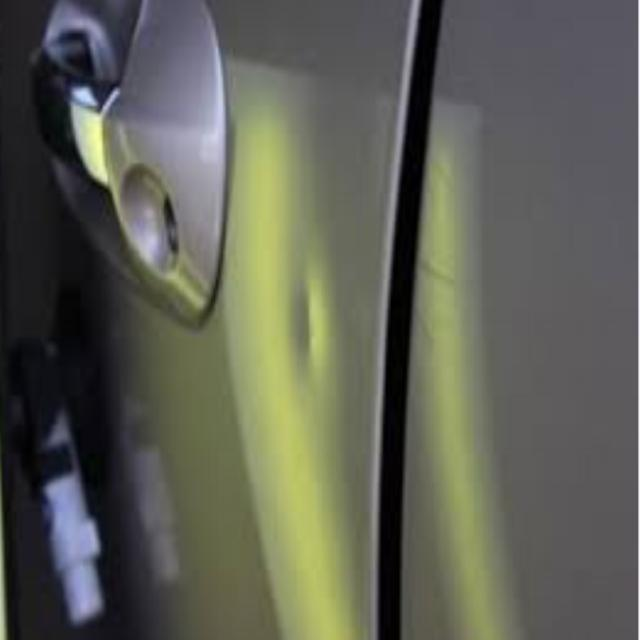dents: (282, 243, 341, 407)
